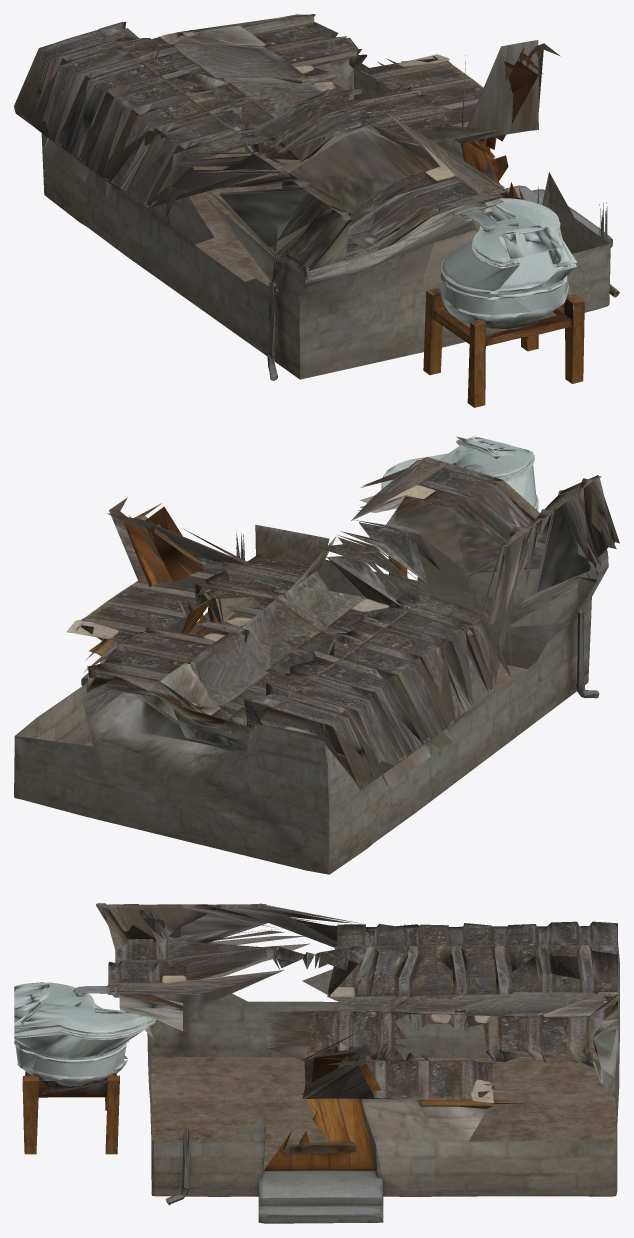
The model's file is pump_house_wreck.glb.
3 renders of one model, top to bottom at view 1: azimuth 30°, elevation 25°; view 2: azimuth 150°, elevation 25°; view 3: azimuth 270°, elevation 25°, orthographic. The views are drawn at different scales.
Visible parts, largest first — view 1: wall.001, roof.001; view 2: wall.001, roof.001; view 3: wall.001, roof.001.
Boxes of the visible parts, bbox=[...] form: wall.001: bbox=[14, 14, 619, 407]; roof.001: bbox=[14, 14, 543, 267]; wall.001: bbox=[14, 436, 619, 874]; roof.001: bbox=[66, 457, 616, 789]; wall.001: bbox=[14, 903, 619, 1223]; roof.001: bbox=[74, 903, 617, 1102].
Bounding box in the file's own units: 3.93 × 1.7 × 5.63.
Materials: 1 (1 with a texture image).
